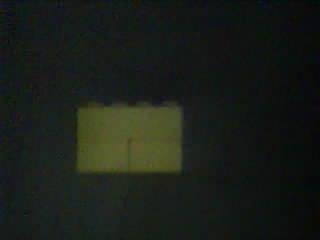lego: (75, 97, 182, 173)
